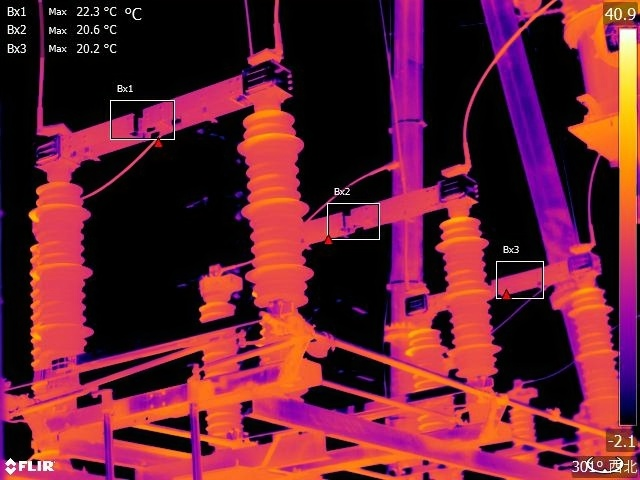post insulator: (239, 111, 316, 315), (25, 181, 98, 351), (438, 211, 498, 384), (566, 287, 621, 422), (199, 292, 247, 446), (405, 325, 454, 431), (503, 402, 545, 448)
switch: (33, 51, 303, 184), (400, 236, 610, 331), (305, 166, 484, 254)
